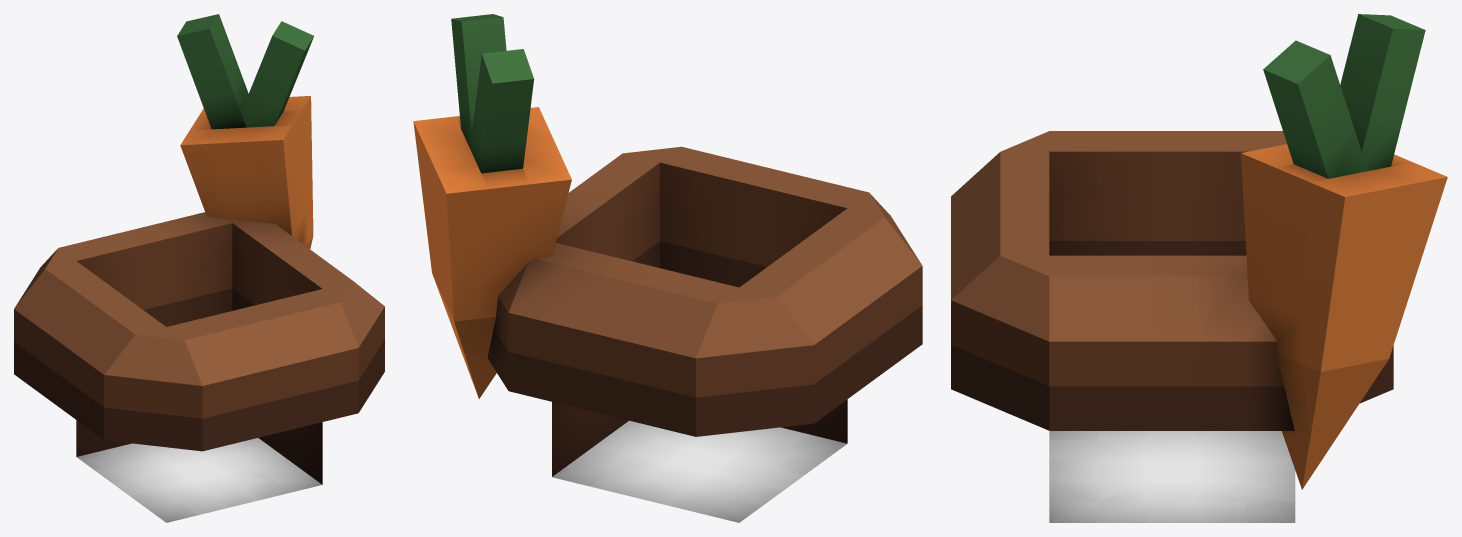
File: rabbit_hole_voxel.fbx
The picture shows the model from 3 angles, left to right: view 1: azimuth 30°, elevation 25°; view 2: azimuth 150°, elevation 25°; view 3: azimuth 270°, elevation 25°; orthographic projection. The views are drawn at different scales.
Parts seen in each view (by area): view 1: Burrow, PairMarker, Leaf1, Leaf2; view 2: Burrow, PairMarker, Leaf1, Leaf2; view 3: Burrow, PairMarker, Leaf1, Leaf2.
Part boxes in pixels (box(x1,y1,x2,y2)): Burrow: box(14, 212, 384, 522); PairMarker: box(180, 96, 313, 248); Leaf1: box(177, 14, 248, 129); Leaf2: box(235, 21, 313, 127); Burrow: box(487, 146, 922, 522); PairMarker: box(413, 107, 571, 398); Leaf1: box(470, 49, 533, 173); Leaf2: box(451, 14, 506, 156); Burrow: box(951, 131, 1393, 522); PairMarker: box(1241, 144, 1447, 489); Leaf1: box(1340, 14, 1425, 173); Leaf2: box(1263, 40, 1367, 178).
Size of the model in its own units: 101 by 114 by 101.
